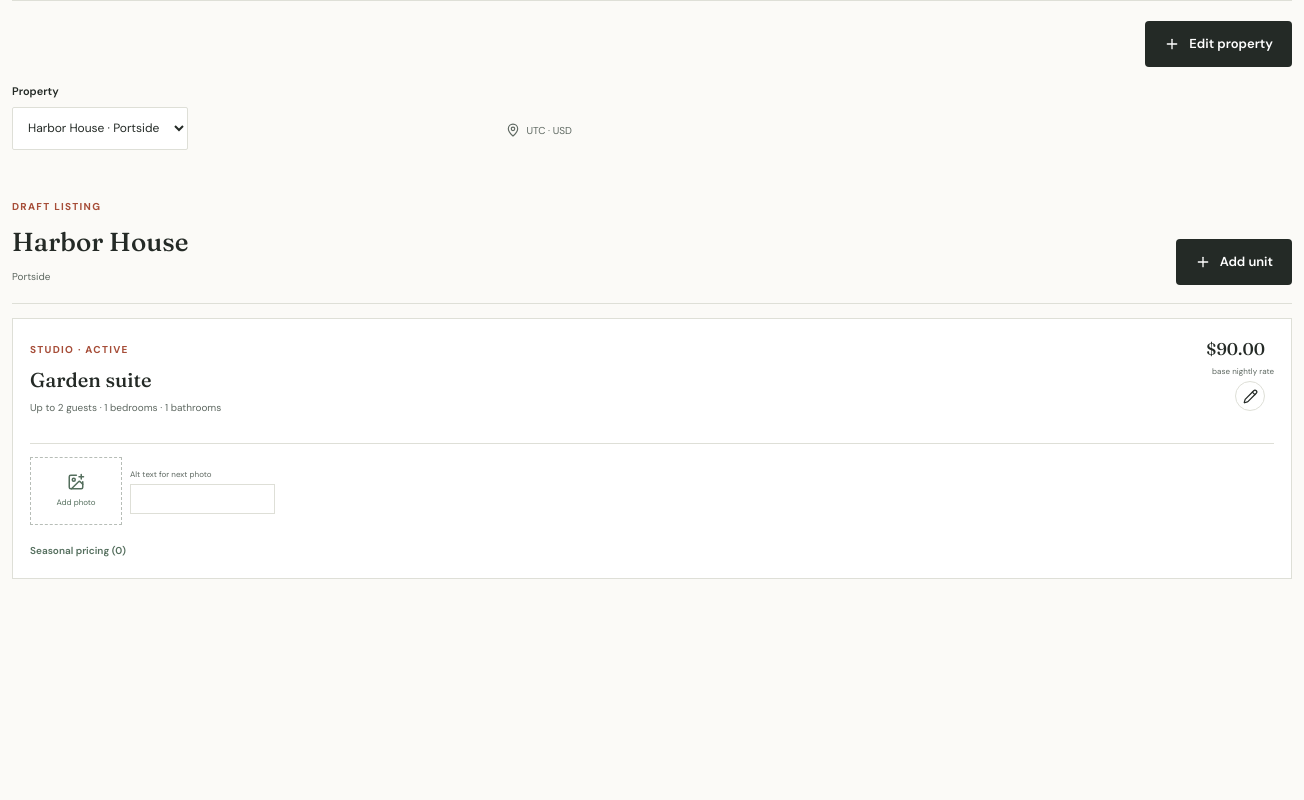
Listings manager role controls › lets a super-admin open property creation
This screenshot has width=1304, height=800.
Click the button "Edit property" at (1219, 44), box top-left (1145, 21), bottom-right (1292, 67)
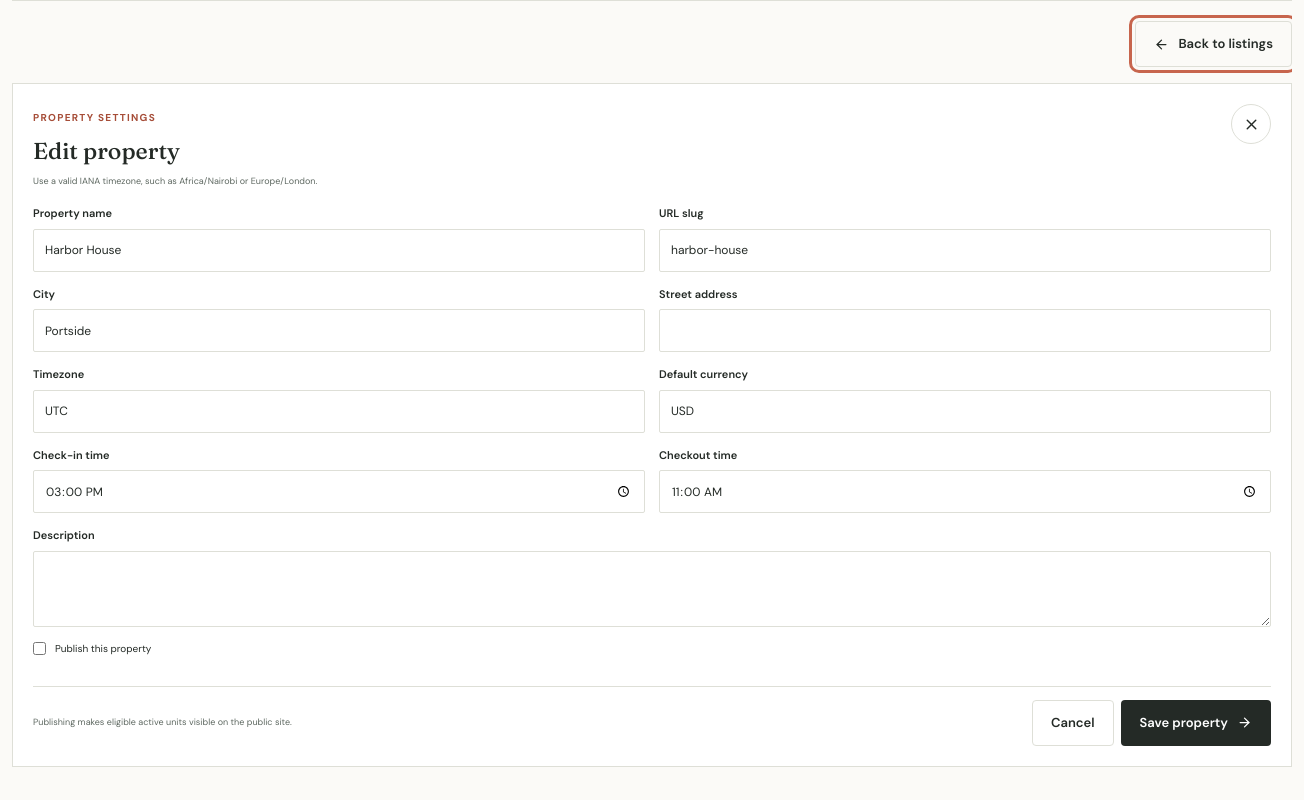
Expected: the heading "Edit property" is shown, top-left (33, 137), bottom-right (180, 165)
Now the field labelled "Property name" holds "Harbor House", box top-left (33, 228), bottom-right (645, 272)
